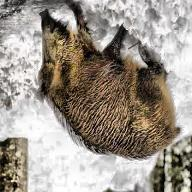boar: (24, 4, 185, 179)
